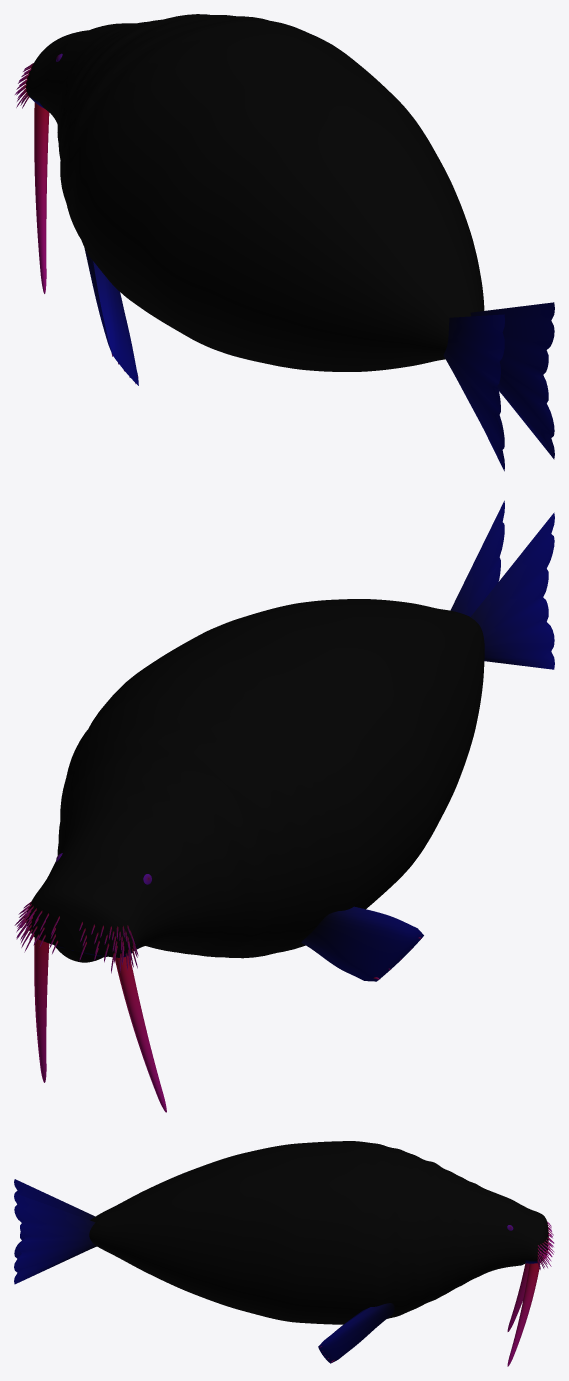
The model's file is walrus.glb.
3 renders of one model, top to bottom at view 1: azimuth 30°, elevation 25°; view 2: azimuth 150°, elevation 25°; view 3: azimuth 270°, elevation 25°, orthographic. The views are drawn at different scales.
Parts seen in each view (by area): view 1: walrus; view 2: walrus; view 3: walrus.
Part boxes in pixels (bbox=[...]): walrus: bbox=[15, 14, 554, 471]; walrus: bbox=[14, 500, 554, 1112]; walrus: bbox=[14, 1141, 554, 1366].
Bounding box in the file's own units: 1.17 × 1.22 × 3.03.
